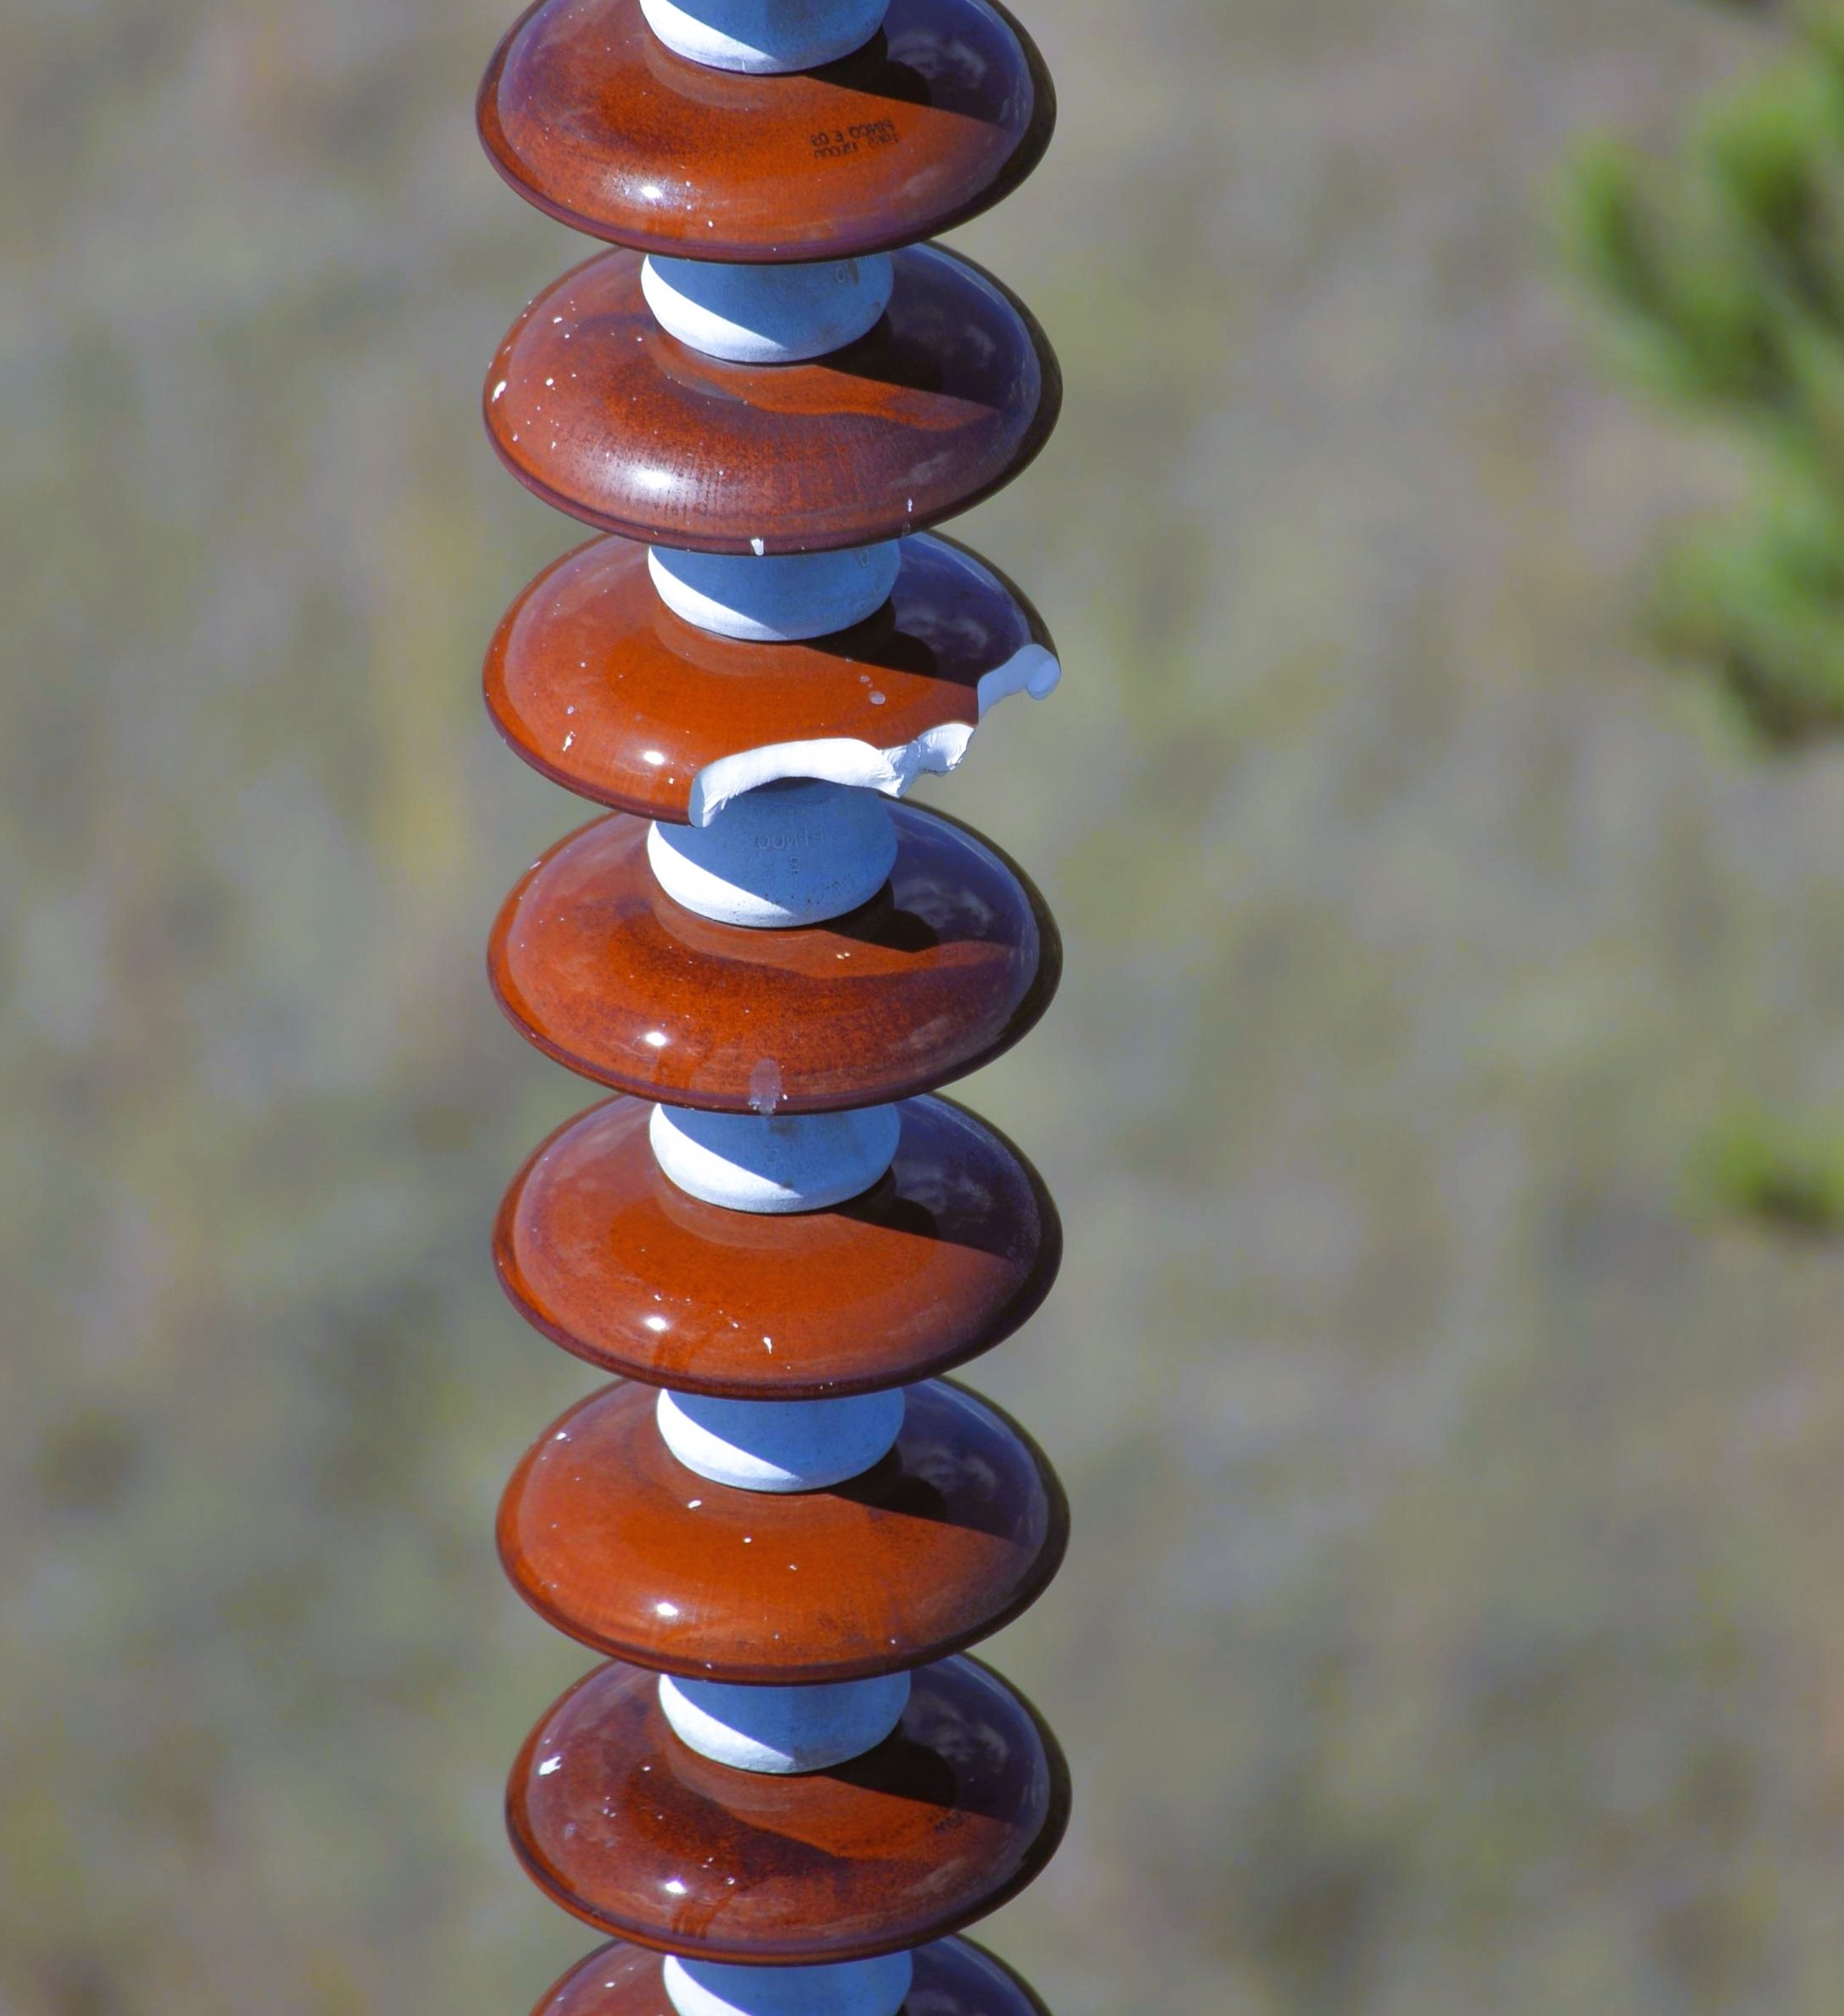insulator breakage: (474, 564, 1089, 845)
